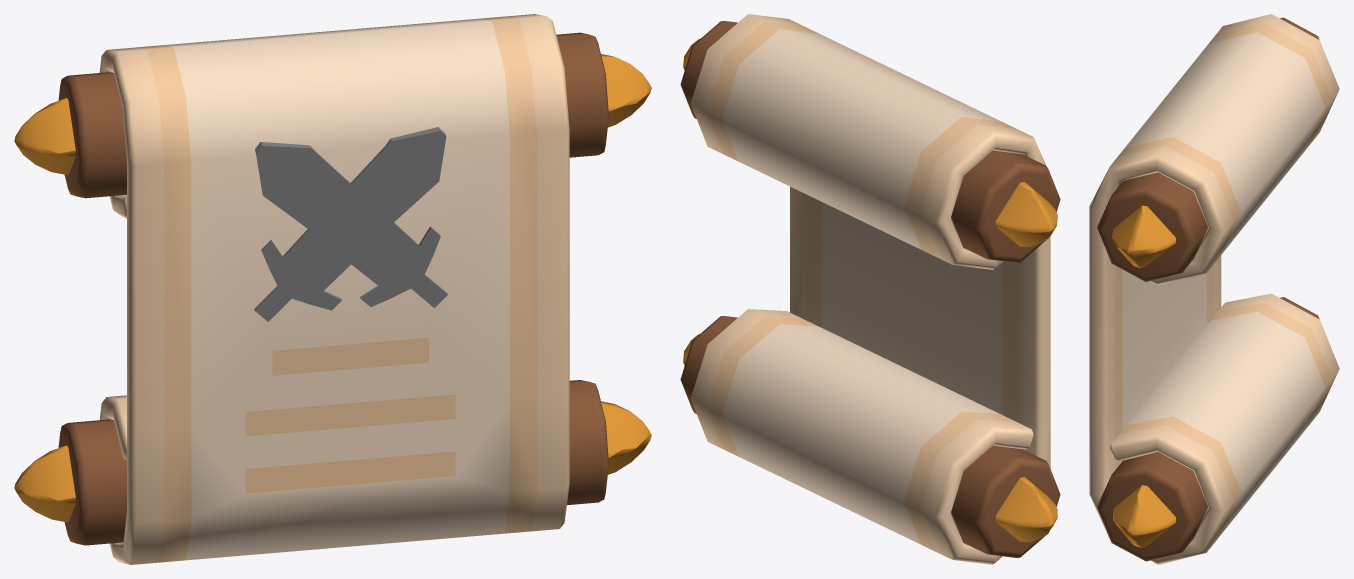
3 views of the same model, side by side, from view 1: azimuth 30°, elevation 25°; view 2: azimuth 150°, elevation 25°; view 3: azimuth 270°, elevation 25° (orthographic). The views are drawn at different scales.
Parts seen in each view (by area): view 1: model_1.004; view 2: model_1.004; view 3: model_1.004.
Part boxes in pixels (x1=…): model_1.004: x1=14, y1=14, x2=651, y2=564; model_1.004: x1=680, y1=14, x2=1060, y2=564; model_1.004: x1=1089, y1=14, x2=1339, y2=564.
Size of the model in its own units: 4.48 by 4.09 by 2.27.
